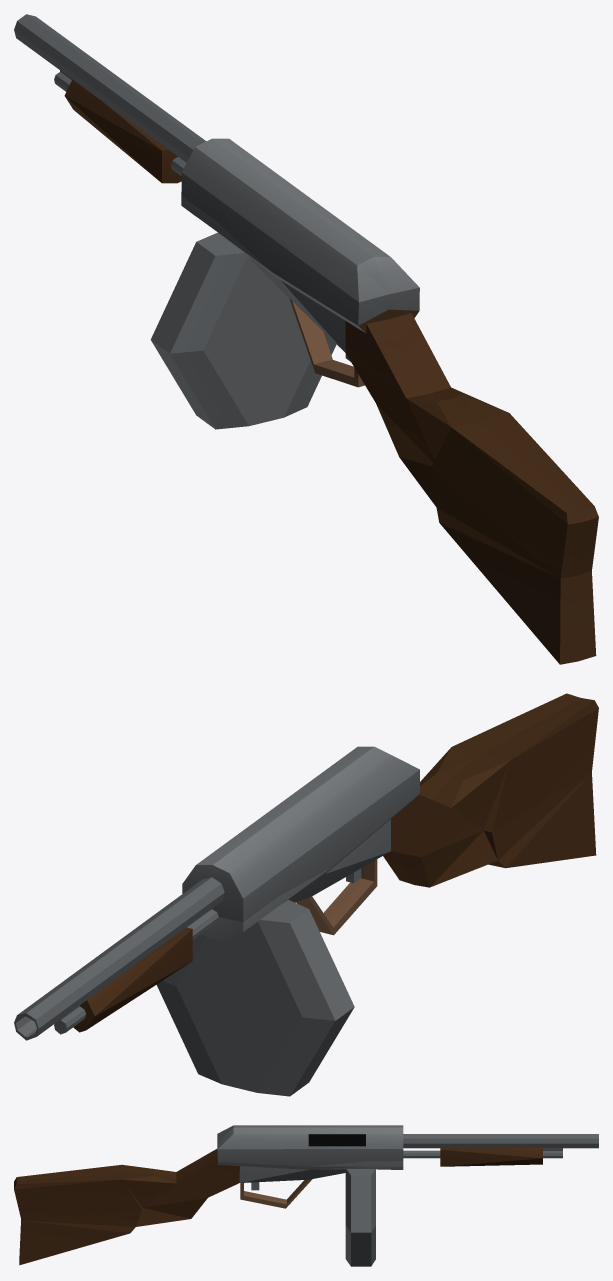
File: little_tommy.fbx
3 views of the same model, one above another, from view 1: azimuth 30°, elevation 25°; view 2: azimuth 150°, elevation 25°; view 3: azimuth 270°, elevation 25° (orthographic). The views are drawn at different scales.
Parts seen in each view (by area): view 1: Cube.003; view 2: Cube.003; view 3: Cube.003.
Boxes of the visible parts, x1,y1,x2,y2 form: Cube.003: [14, 14, 598, 664]; Cube.003: [14, 693, 598, 1096]; Cube.003: [14, 1125, 598, 1266].
Size of the model in its own units: 140 by 186 by 737.
Materials: 2 (2 with a texture image).
